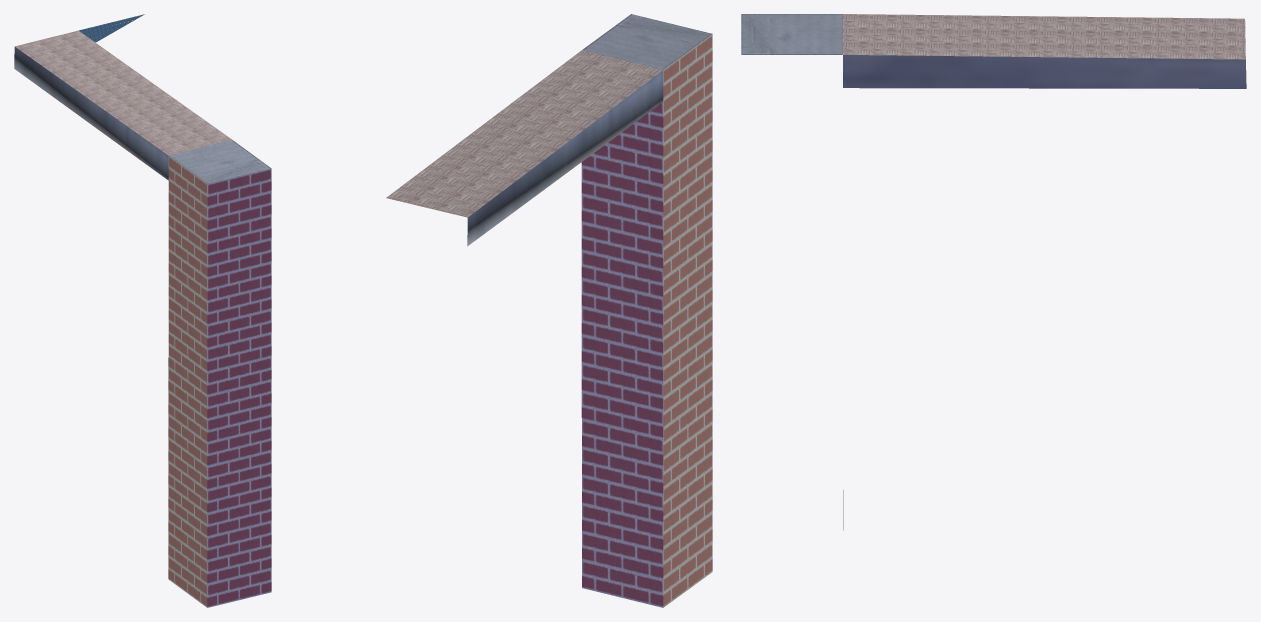
3 renders of one model, left to right at view 1: azimuth 30°, elevation 25°; view 2: azimuth 150°, elevation 25°; view 3: azimuth 270°, elevation 25°, orthographic. The views are drawn at different scales.
Visible parts, largest first — view 1: Object02; view 2: Object02; view 3: Object02.
Part boxes in pixels (left/top/right/bottom): Object02: left=14, top=14, right=271, bottom=607; Object02: left=386, top=14, right=712, bottom=607; Object02: left=741, top=14, right=1246, bottom=530.
Size of the model in its own units: 483 by 1485 by 1230.
Materials: 7 (7 with a texture image).
